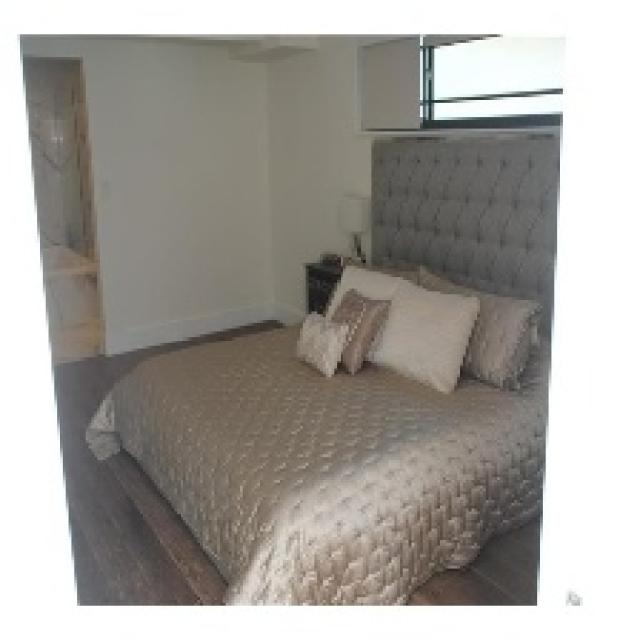Bed: (83, 128, 557, 603)
